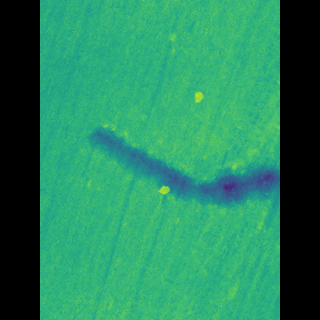Loch: (105, 116, 250, 237)
